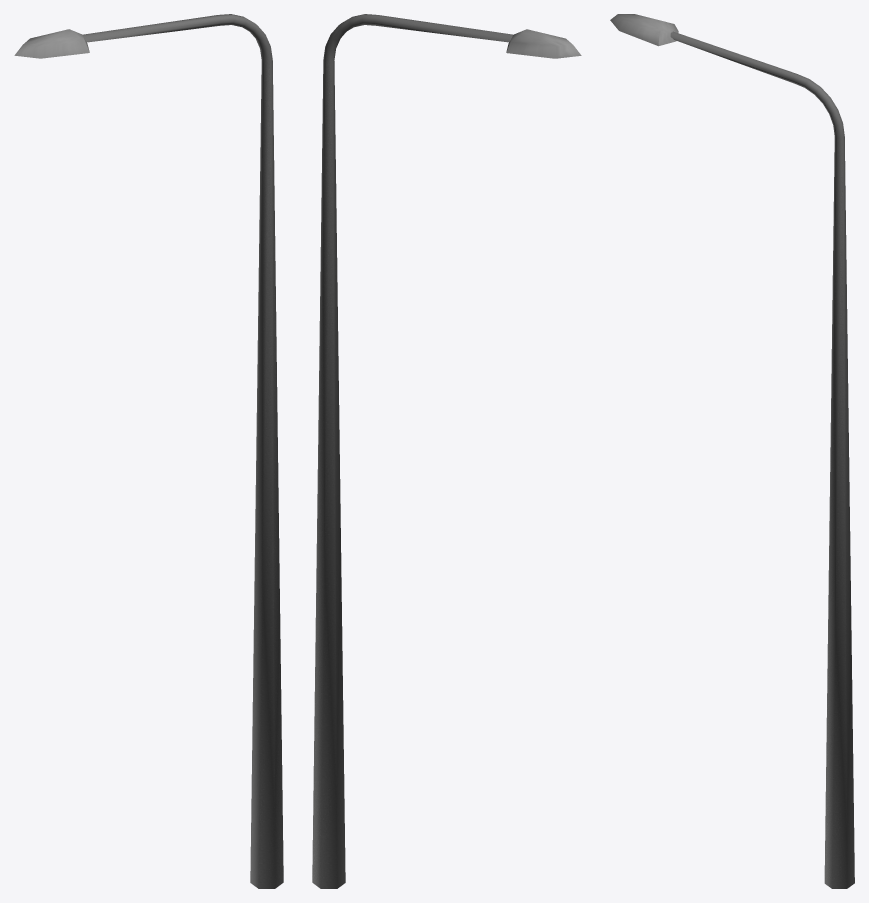
File: streetlight.glb
3 renders of one model, left to right at view 1: azimuth 30°, elevation 25°; view 2: azimuth 150°, elevation 25°; view 3: azimuth 330°, elevation 25°, orthographic. The views are drawn at different scales.
Parts seen in each view (by area): view 1: Post, Lamp; view 2: Post, Lamp; view 3: Post, Lamp.
Part boxes in pixels (box(x1,y1,x2,y2)): Post: box(83, 14, 283, 888); Lamp: box(14, 29, 89, 58); Post: box(312, 14, 512, 888); Lamp: box(506, 29, 581, 58); Post: box(670, 31, 854, 888); Lamp: box(610, 14, 678, 46).
Bounding box in the file's own units: 2.11 × 6.85 × 0.3059.
Materials: 5 (5 with a texture image).
